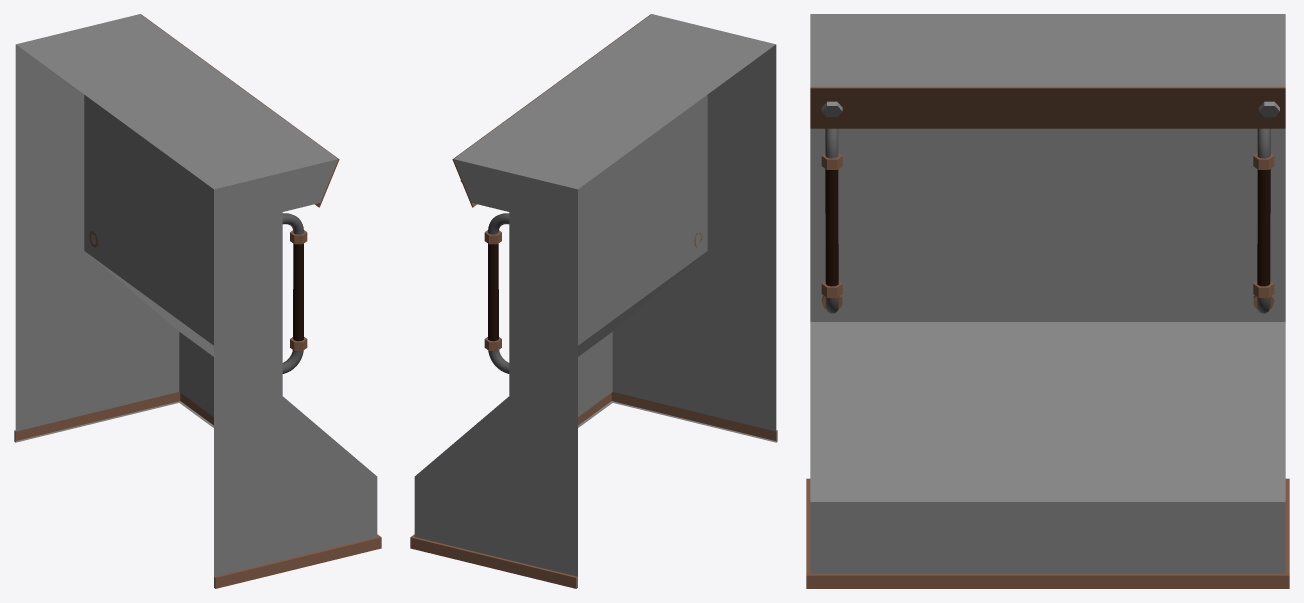
Rendered from SM_UIBaseClean.FBX.
3 renders of one model, left to right at view 1: azimuth 30°, elevation 25°; view 2: azimuth 150°, elevation 25°; view 3: azimuth 270°, elevation 25°, orthographic. The views are drawn at different scales.
Parts seen in each view (by area): view 1: SM_UIBaseClean; view 2: SM_UIBaseClean; view 3: SM_UIBaseClean.
Part boxes in pixels (x1,y1,x2,y2): SM_UIBaseClean: (14, 14, 381, 588); SM_UIBaseClean: (410, 14, 777, 588); SM_UIBaseClean: (806, 14, 1289, 588).
Size of the model in its own units: 121 by 277 by 254.
1 material, 1 textured.
